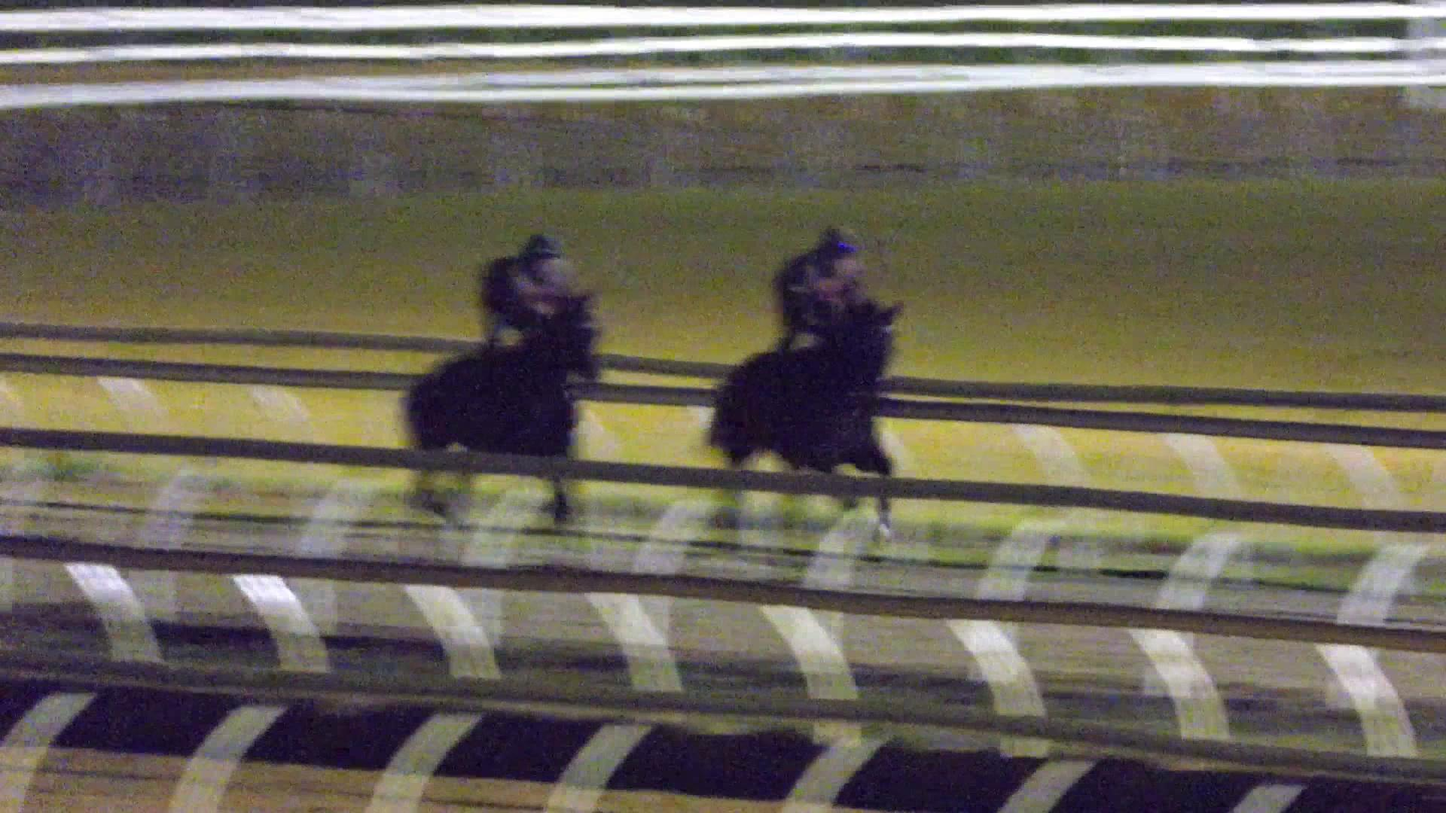racing-horse: (679, 173, 991, 575), (343, 202, 650, 564)
